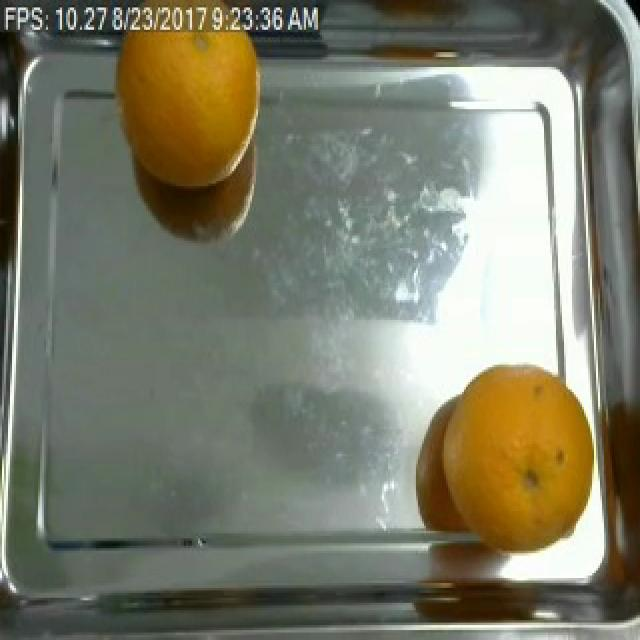Fruit: (92, 8, 266, 218)
